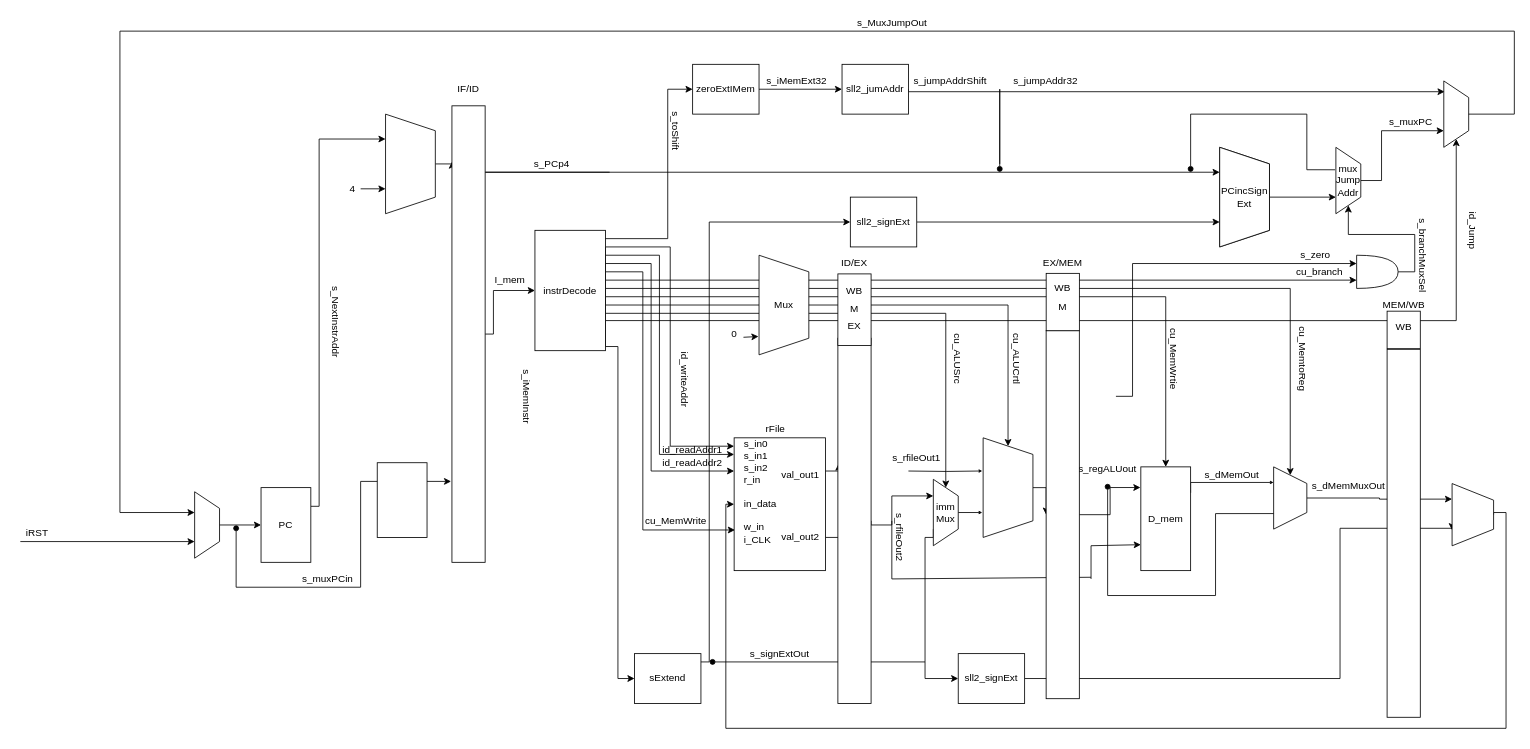
The diagram is 1530 pixels wide and 749 high, and some of its shapes have lost their labels. Here are the shapes that lost their labels. From the top down, the centre of each, then its label:
the point at 1456,113: final Jump Mux
the point at 410,163: incrPC
the point at 1377,271: andZero
the point at 1007,487: ALU_ rFileOut
the point at 1290,497: DMem Mux
the point at 207,524: mux PCIn
the point at 1472,514: Mux ShiftWB
